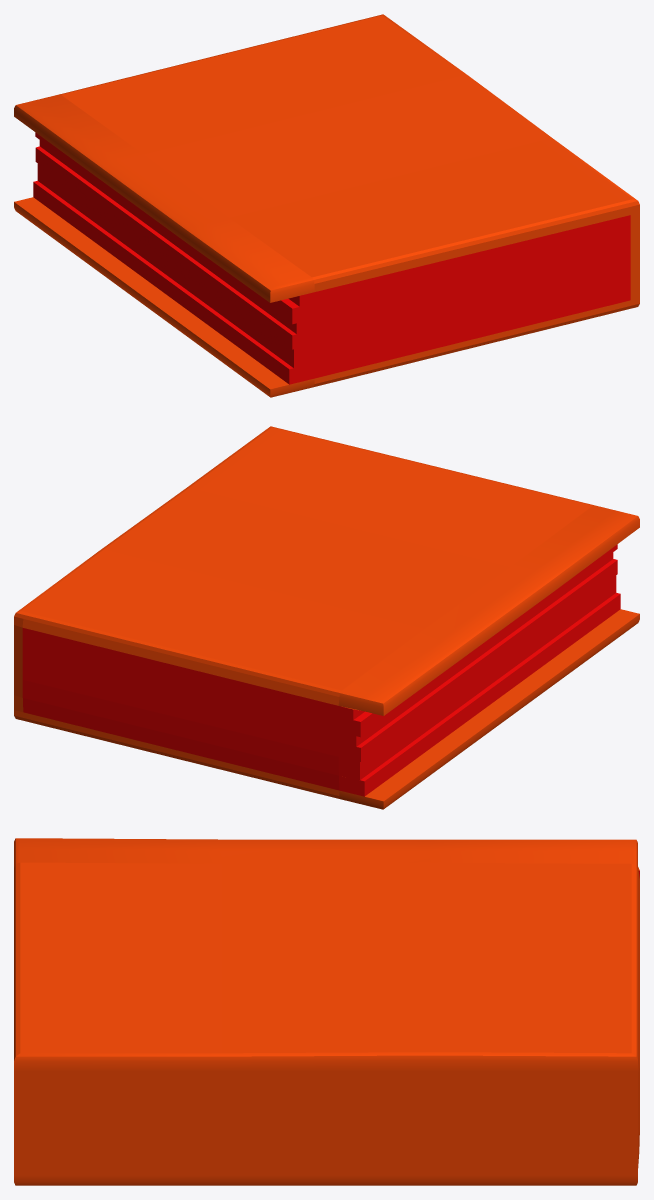
The model's file is Grimoire.FBX.
3 renders of one model, top to bottom at view 1: azimuth 30°, elevation 25°; view 2: azimuth 150°, elevation 25°; view 3: azimuth 270°, elevation 25°, orthographic. The views are drawn at different scales.
Parts seen in each view (by area): view 1: Grimoire; view 2: Grimoire; view 3: Grimoire.
Boxes of the visible parts, bbox=[...] form: Grimoire: bbox=[14, 14, 639, 397]; Grimoire: bbox=[14, 426, 639, 809]; Grimoire: bbox=[14, 838, 639, 1185].
Size of the model in its own units: 0.9843 by 0.2808 by 1.18.
